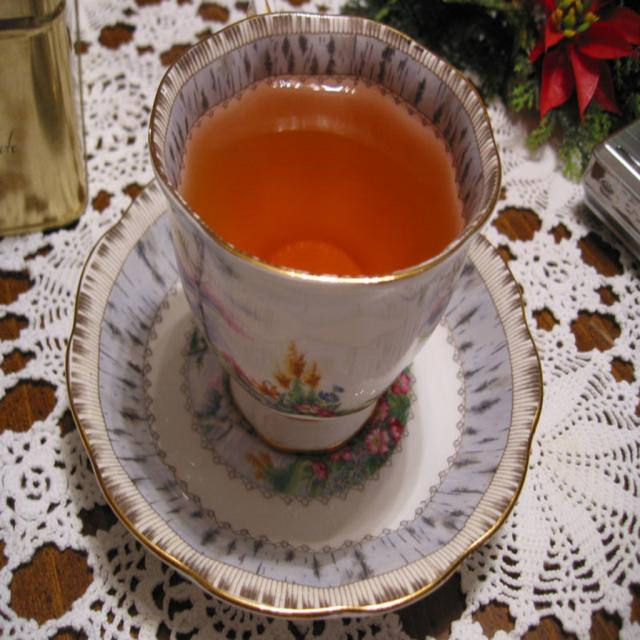Tea: (174, 71, 463, 277)
